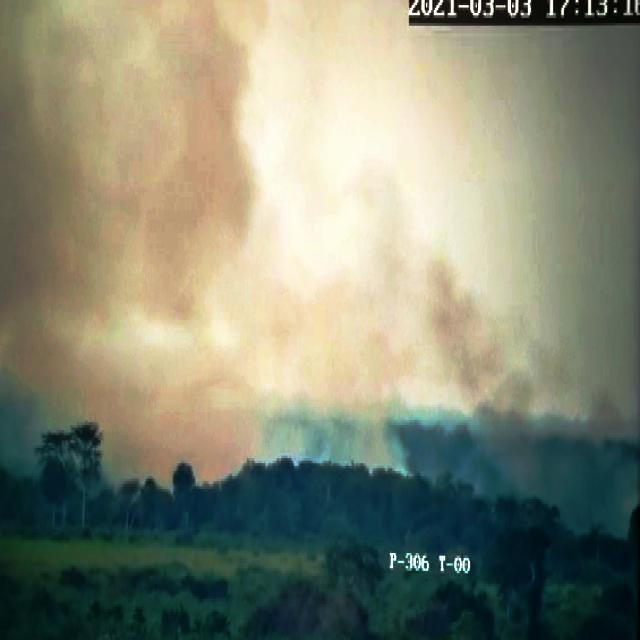asap: (1, 1, 424, 554), (1, 1, 302, 515), (411, 196, 640, 564)
